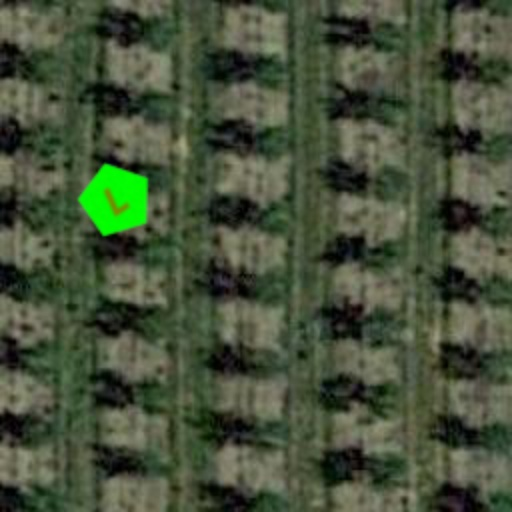pentagon: (62, 146, 170, 254)
